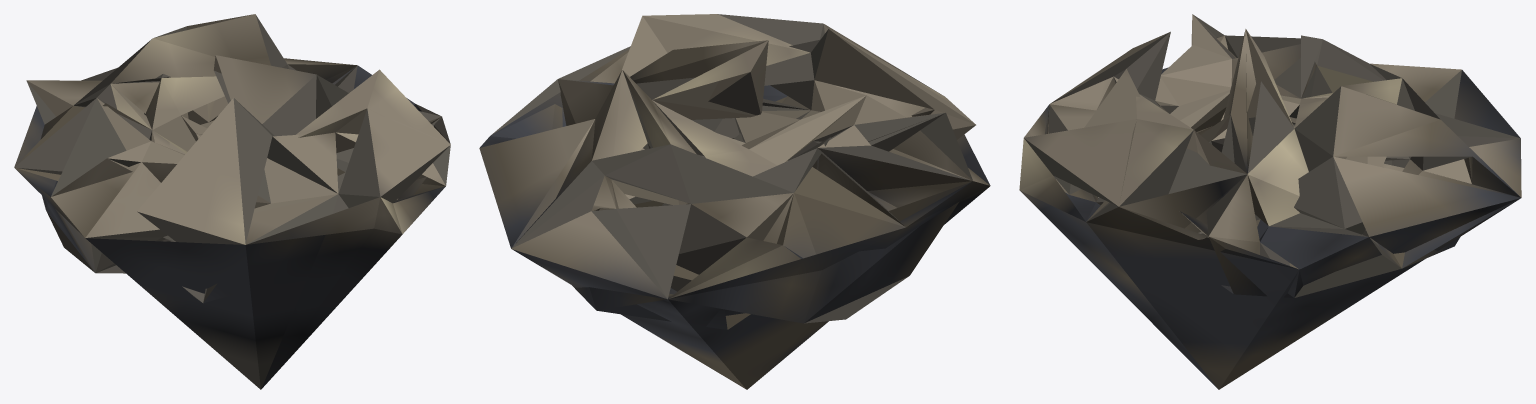
Rendered from SM_MeshyDogBowl.fbx.
3 renders of one model, left to right at view 1: azimuth 30°, elevation 25°; view 2: azimuth 150°, elevation 25°; view 3: azimuth 270°, elevation 25°, orthographic. The views are drawn at different scales.
Visible parts, largest first — view 1: SM_MeshyDogBowl; view 2: SM_MeshyDogBowl; view 3: SM_MeshyDogBowl.
Boxes of the visible parts, x1,y1,x2,y2 form: SM_MeshyDogBowl: (14, 14, 450, 389); SM_MeshyDogBowl: (479, 14, 990, 389); SM_MeshyDogBowl: (1019, 14, 1521, 389).
Size of the model in its own units: 1.14 by 0.9081 by 1.2.
Materials: 1 (1 with a texture image).
